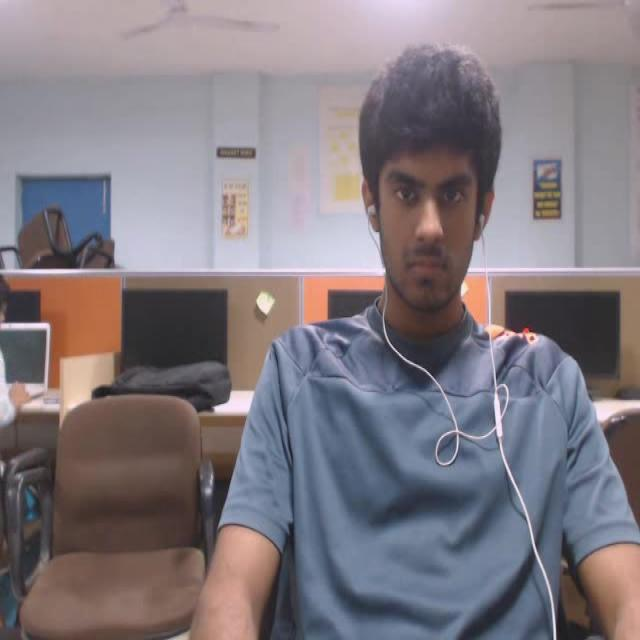Engaged: (332, 31, 512, 358)
